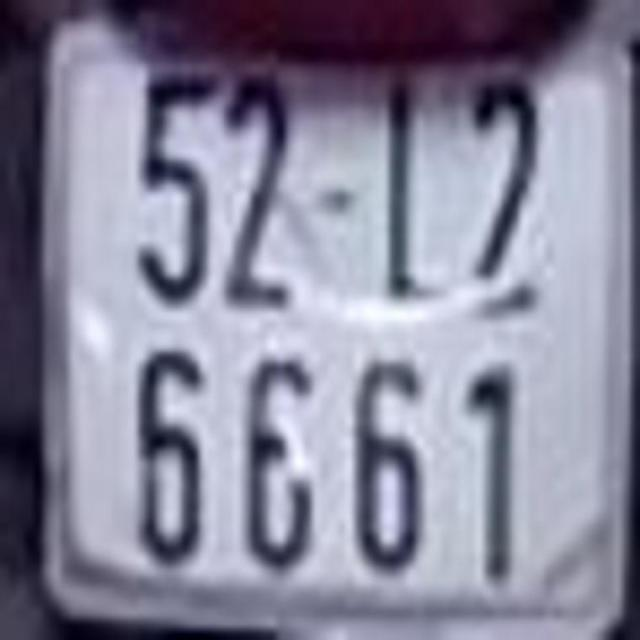1: (462, 359, 524, 580)
2: (467, 68, 541, 316), (224, 68, 292, 310)
5: (135, 68, 214, 303)
6: (353, 354, 433, 570), (242, 353, 315, 570), (136, 346, 204, 565)
L: (381, 66, 455, 304)
